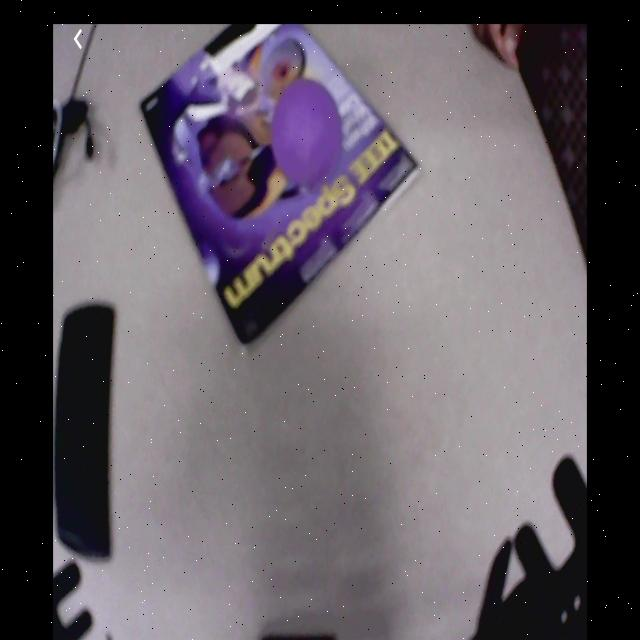ball: (271, 79, 340, 180)
